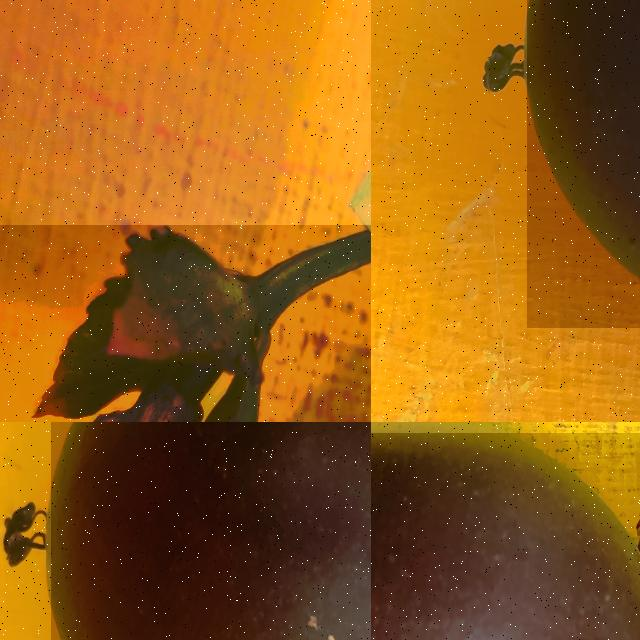Estado-3: (44, 225, 371, 422)
Estado-5: (51, 422, 371, 640)
Estado-6: (371, 433, 640, 640)
